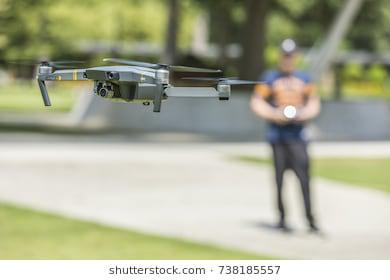drone: (9, 48, 272, 120)
